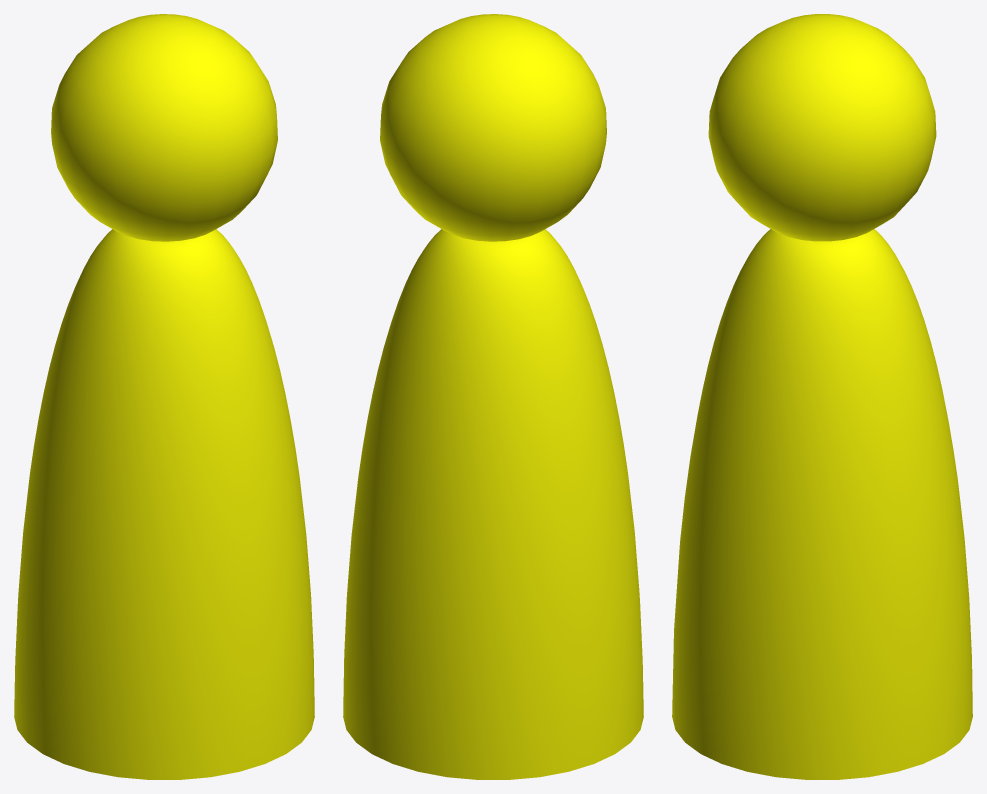
The model's file is pawn.glb.
3 renders of one model, left to right at view 1: azimuth 30°, elevation 25°; view 2: azimuth 150°, elevation 25°; view 3: azimuth 270°, elevation 25°, orthographic.
Parts seen in each view (by area): view 1: figure-1-00; view 2: figure-1-00; view 3: figure-1-00.
Part boxes in pixels (x1,y1,x2,y2): figure-1-00: (14,14,314,779); figure-1-00: (343,14,643,779); figure-1-00: (672,14,972,779).
Size of the model in its own units: 0.0995 by 0.254 by 0.1.
